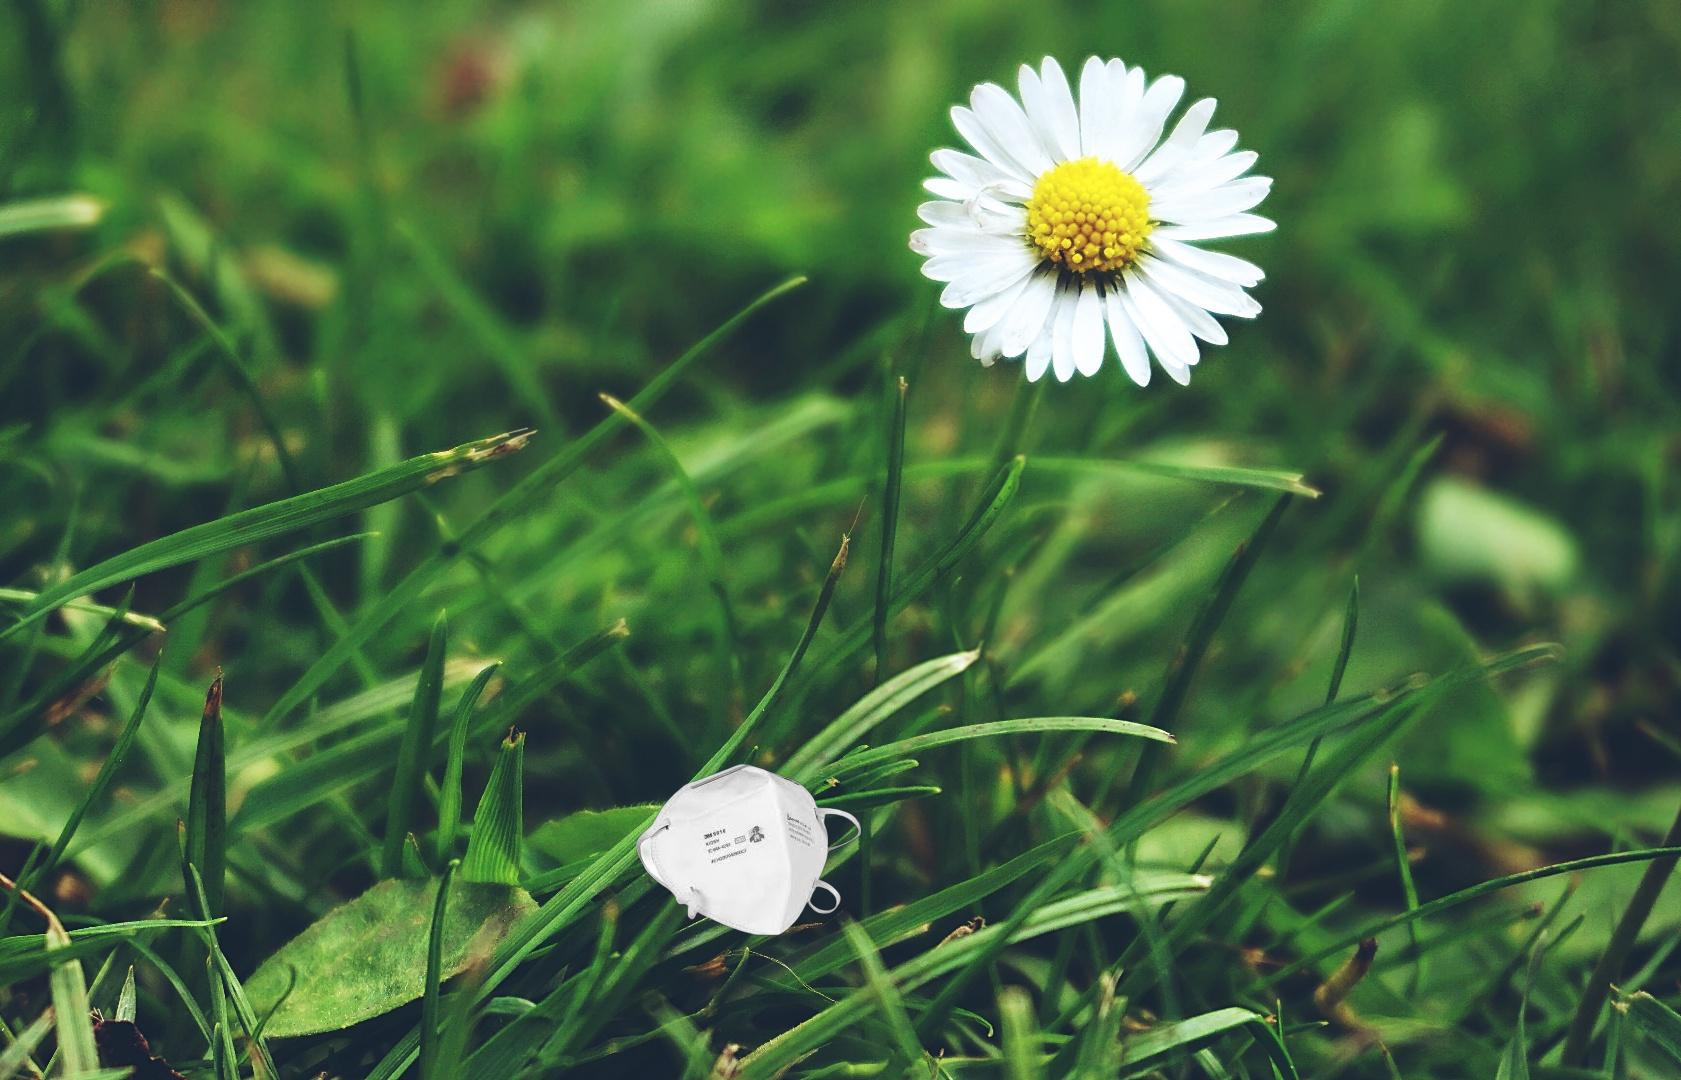trash: (636, 761, 861, 938)
